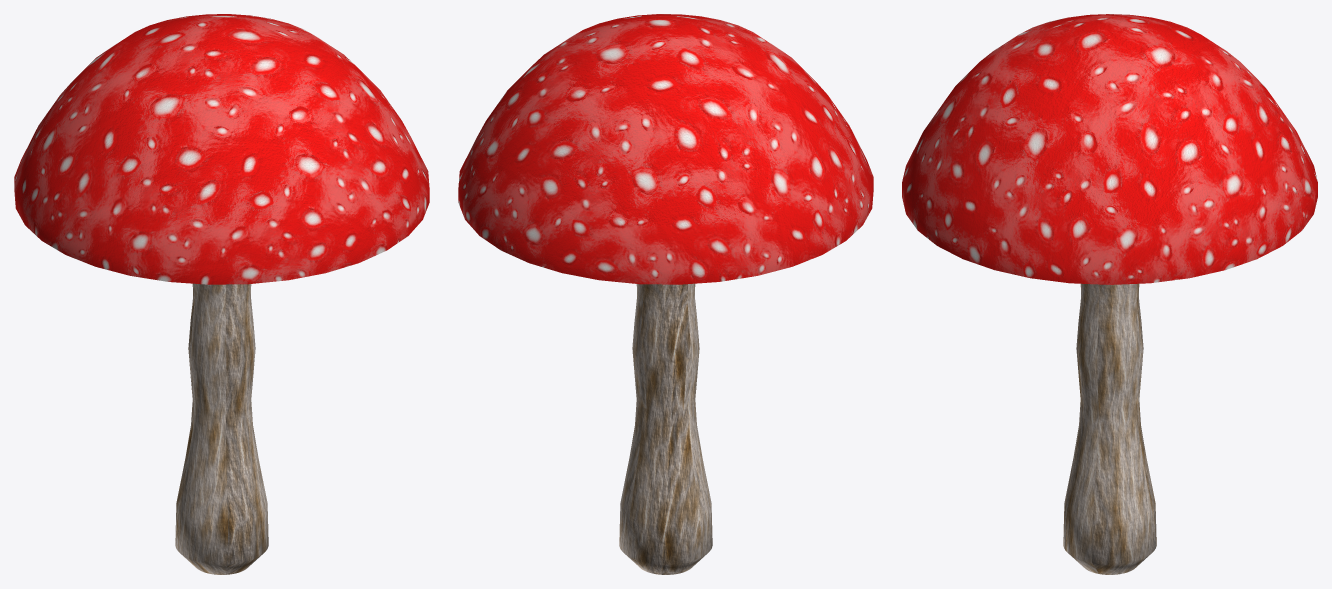
The model's file is Mushroom.fbx.
3 views of the same model, side by side, from view 1: azimuth 30°, elevation 25°; view 2: azimuth 150°, elevation 25°; view 3: azimuth 270°, elevation 25° (orthographic).
Visible parts, largest first — view 1: Cap, Stem; view 2: Cap, Stem; view 3: Cap, Stem.
Part boxes in pixels (<box>): Cap: <box>14,14,429,284</box>; Stem: <box>175,283,268,574</box>; Cap: <box>458,14,873,284</box>; Stem: <box>619,283,712,574</box>; Cap: <box>902,14,1317,284</box>; Stem: <box>1063,283,1156,574</box>.
Size of the model in its own units: 2.22 by 3.18 by 2.22.
Materials: 3 (2 with a texture image).
